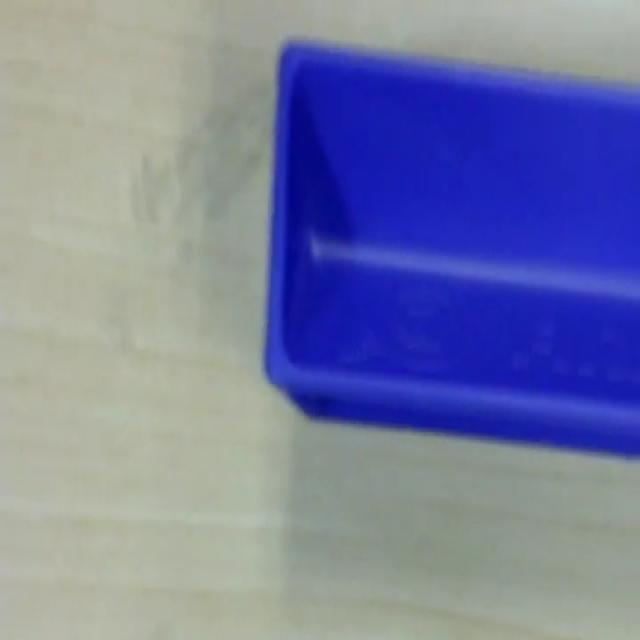blue_block: (262, 35, 638, 456)
